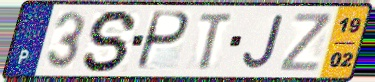3: (44, 9, 89, 72)
J: (241, 13, 288, 72)
P: (132, 10, 192, 73)
S: (80, 8, 141, 74)
T: (197, 11, 236, 72)
Z: (278, 11, 334, 73)
